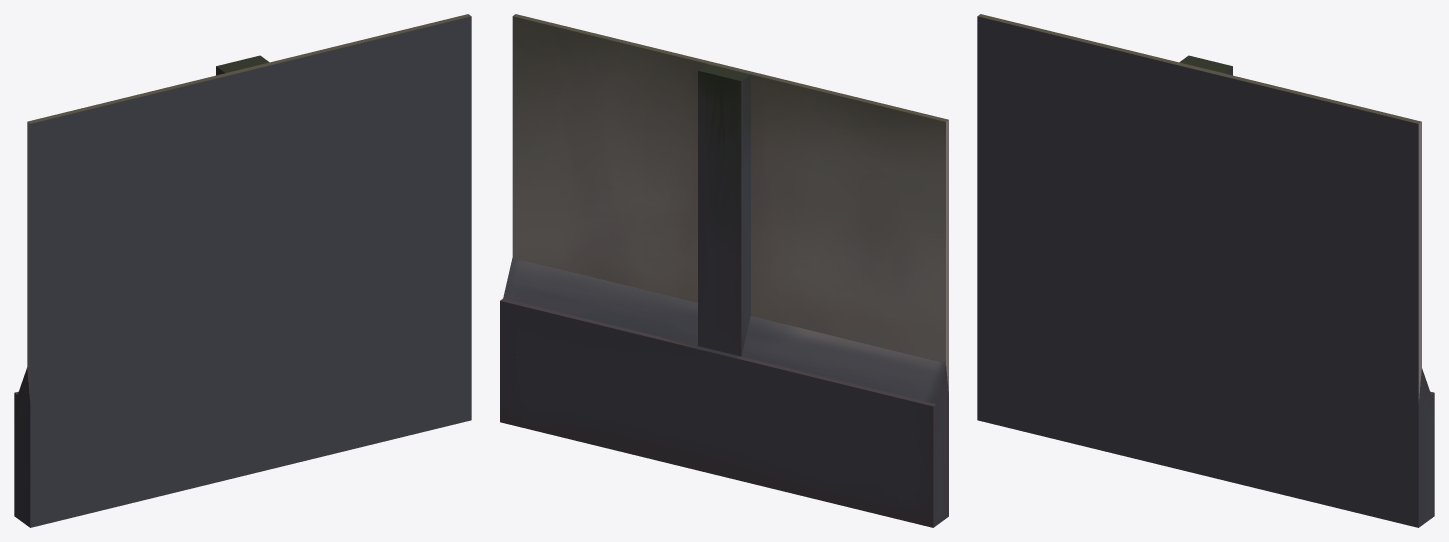
File: Paredees.fbx
The picture shows the model from 3 angles, left to right: view 1: azimuth 30°, elevation 25°; view 2: azimuth 150°, elevation 25°; view 3: azimuth 330°, elevation 25°; orthographic projection.
Parts seen in each view (by area): view 1: Cube; view 2: Cube; view 3: Cube.
Boxes of the visible parts, x1,y1,x2,y2 form: Cube: [14, 14, 471, 527]; Cube: [500, 14, 948, 527]; Cube: [977, 14, 1434, 527].
Size of the model in its own units: 8 by 7 by 0.5003.
